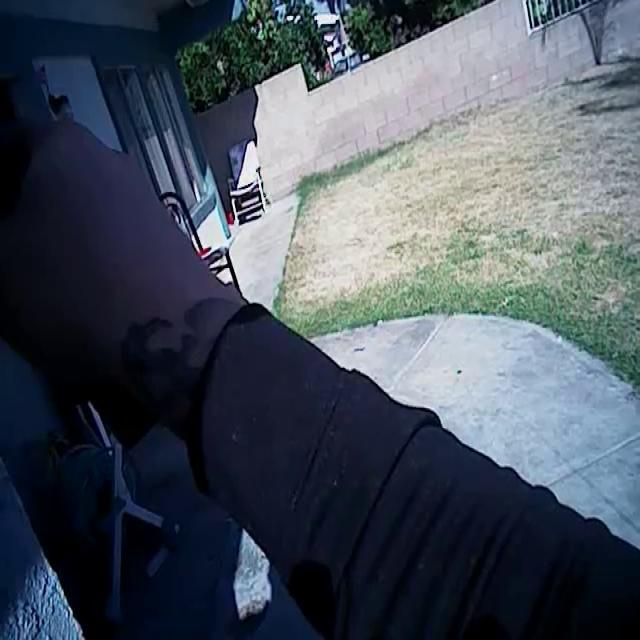gun: (0, 58, 150, 507)
